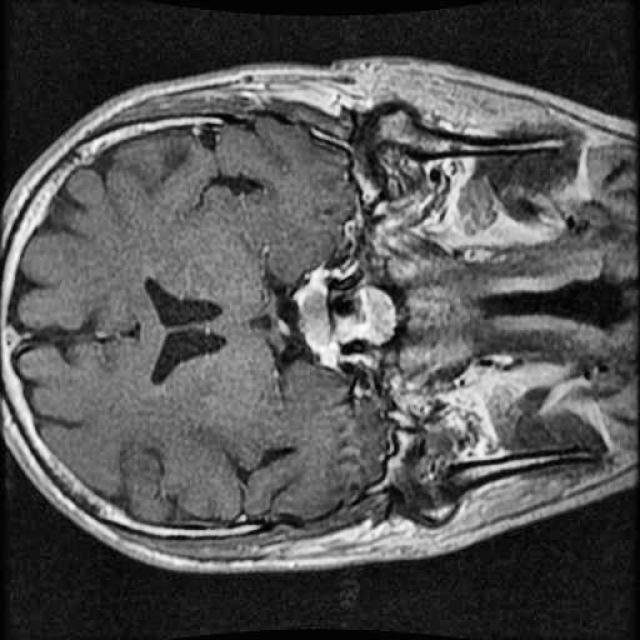Tumor: (281, 253, 356, 380)
